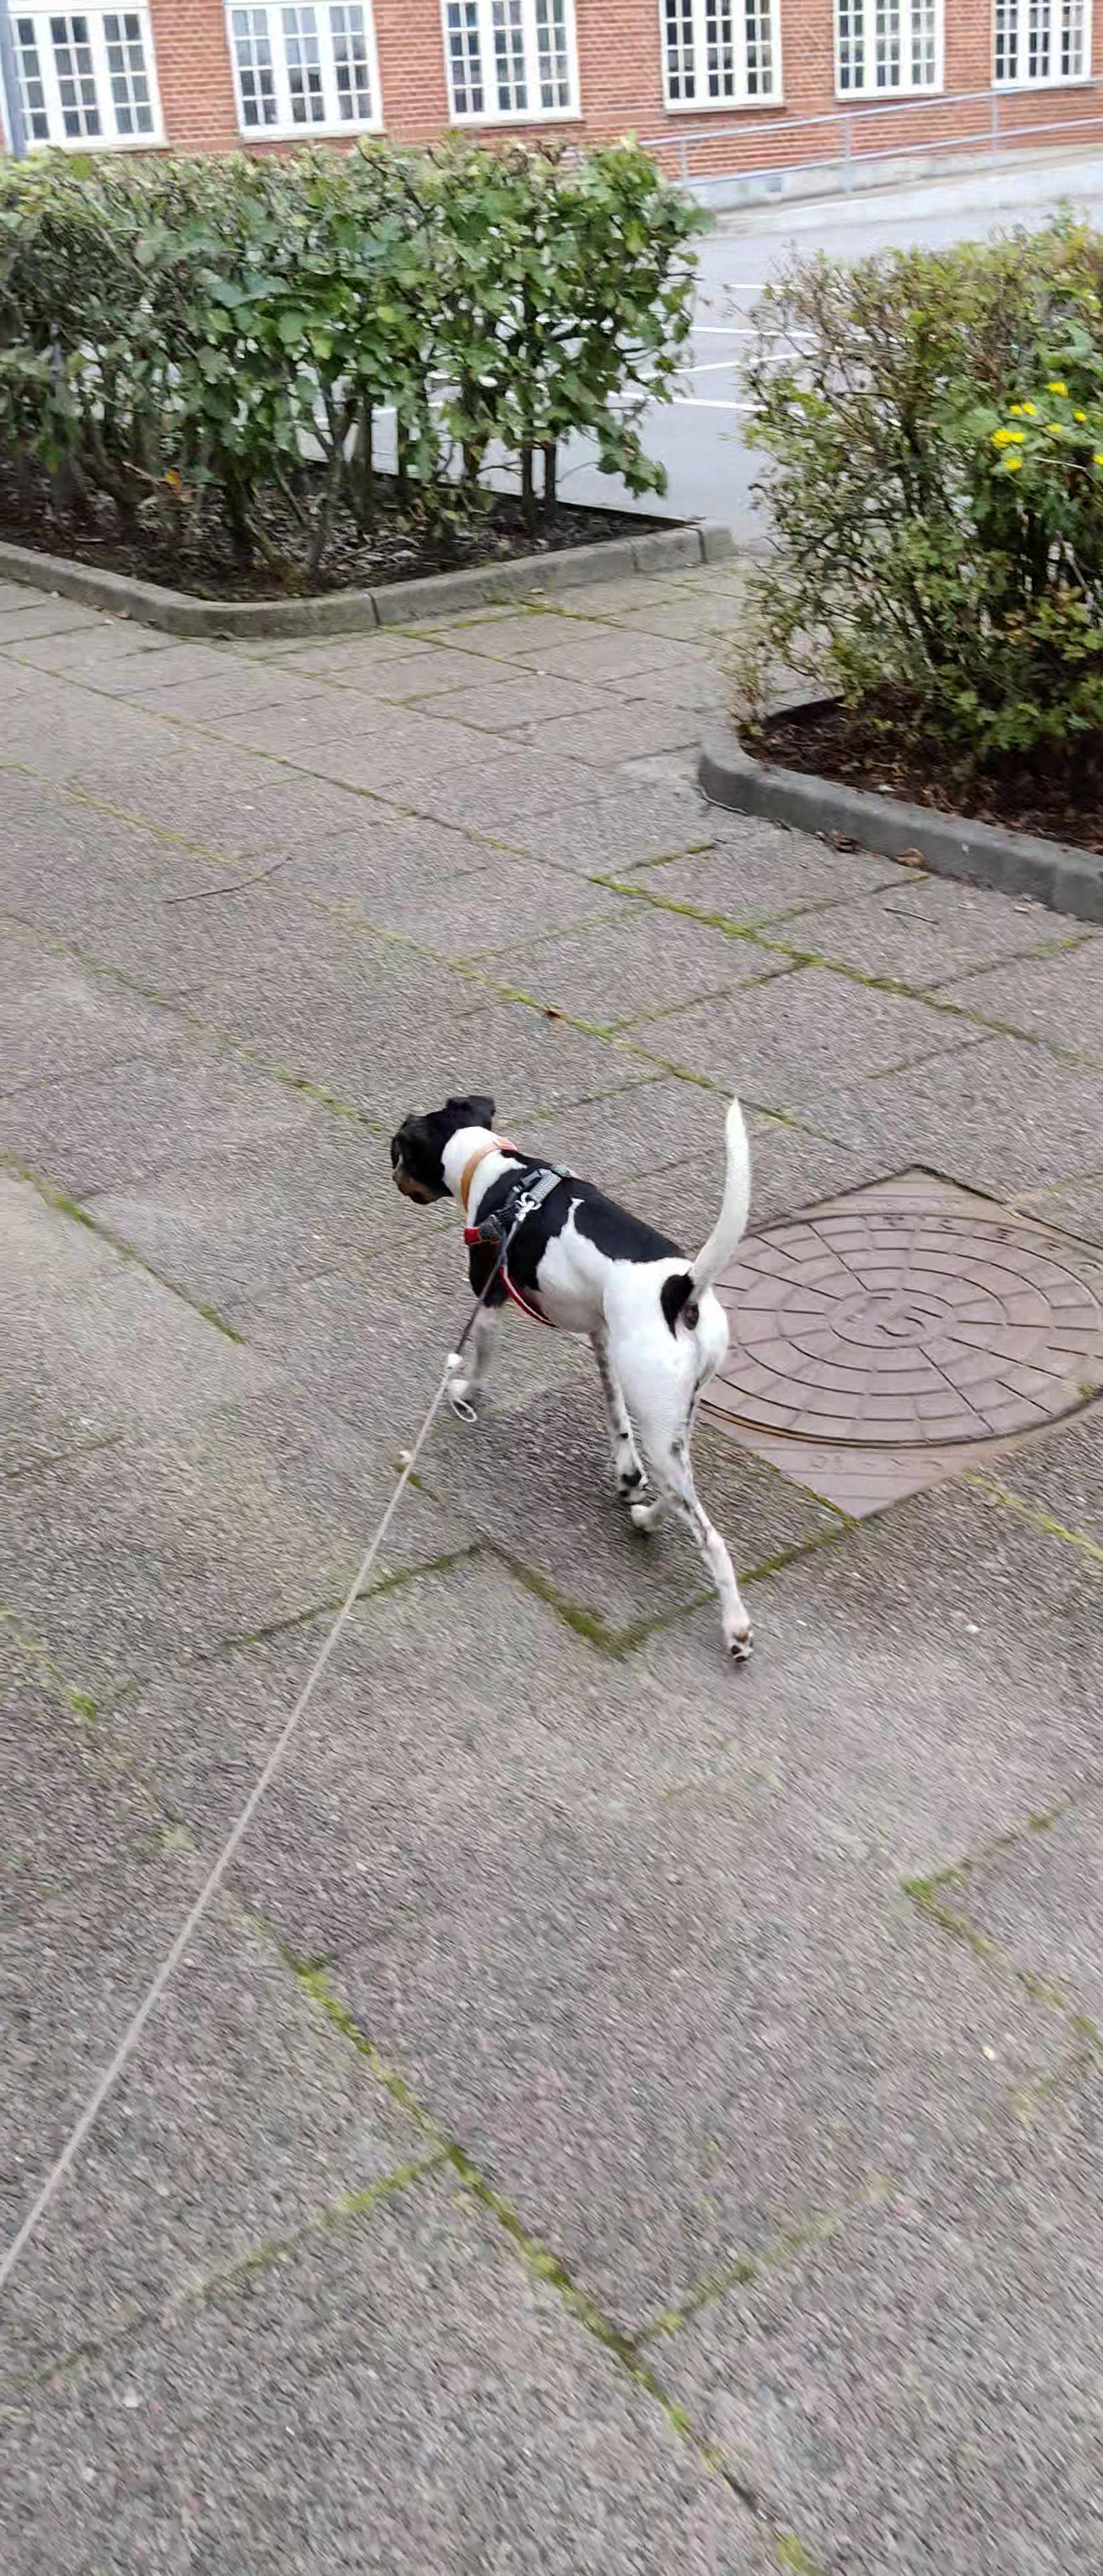Dog: (380, 1076, 773, 1671)
